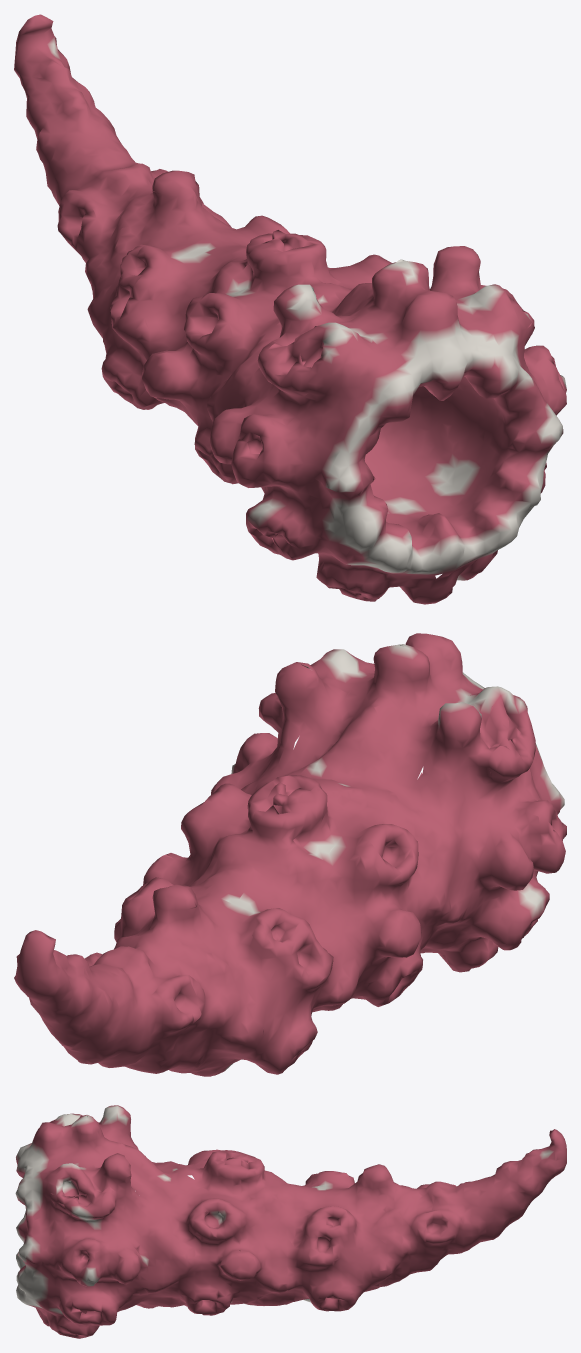
File: mon3d_lo.glb
3 views of the same model, one above another, from view 1: azimuth 30°, elevation 25°; view 2: azimuth 150°, elevation 25°; view 3: azimuth 270°, elevation 25° (orthographic). The views are drawn at different scales.
Bounding box in the file's own units: 0.8698 × 0.8136 × 1.96.
